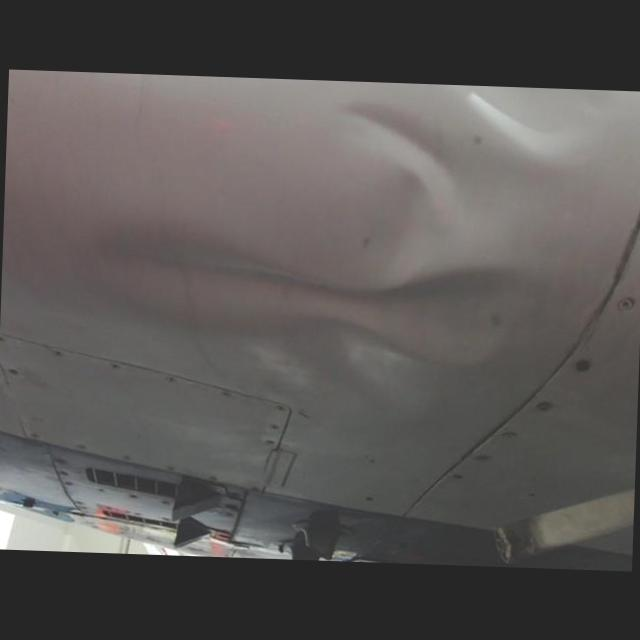dent: (61, 214, 524, 388), (334, 90, 474, 226), (450, 84, 596, 164)
